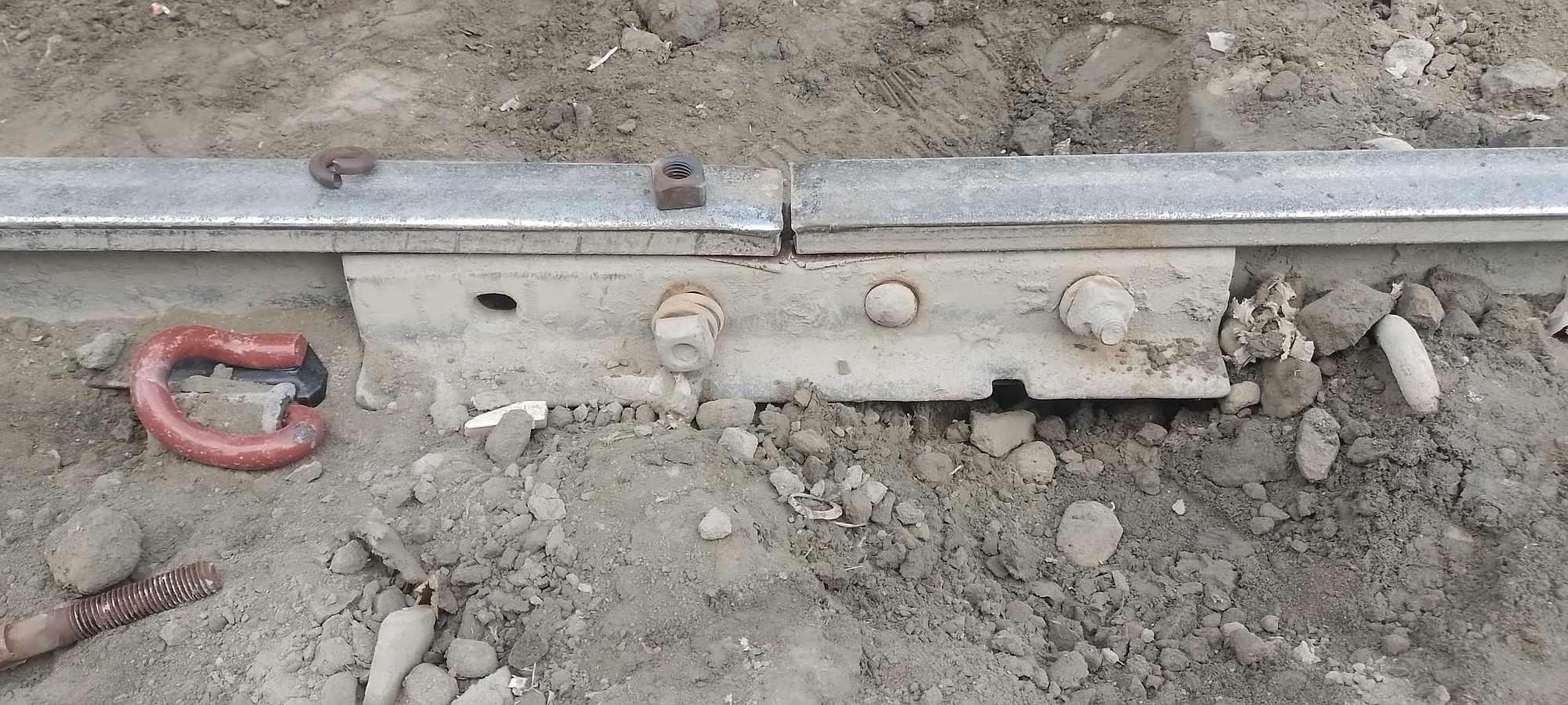railway-gap: (711, 148, 862, 269)
